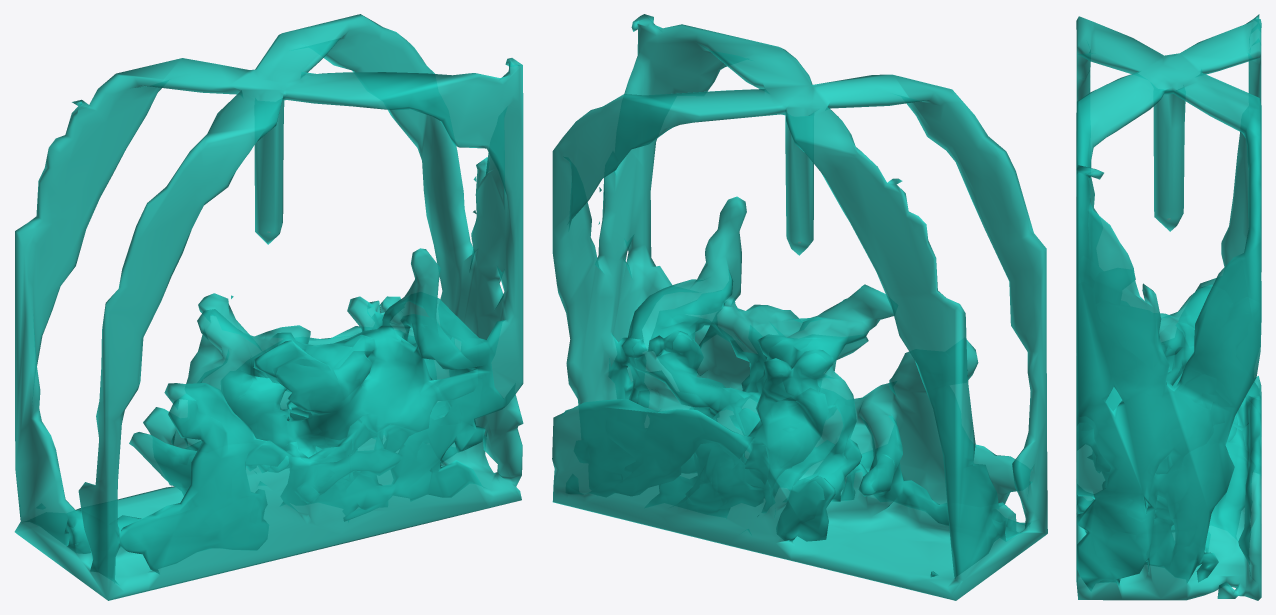
The picture shows the model from 3 angles, left to right: view 1: azimuth 30°, elevation 25°; view 2: azimuth 150°, elevation 25°; view 3: azimuth 270°, elevation 25°; orthographic projection. The views are drawn at different scales.
Parts seen in each view (by area): view 1: Liquid_Domain; view 2: Liquid_Domain; view 3: Liquid_Domain.
Part boxes in pixels (<box>): Liquid_Domain: <box>14,14,523,600</box>; Liquid_Domain: <box>552,14,1047,600</box>; Liquid_Domain: <box>1076,14,1261,600</box>.
Size of the model in its own units: 885 by 885 by 345.
